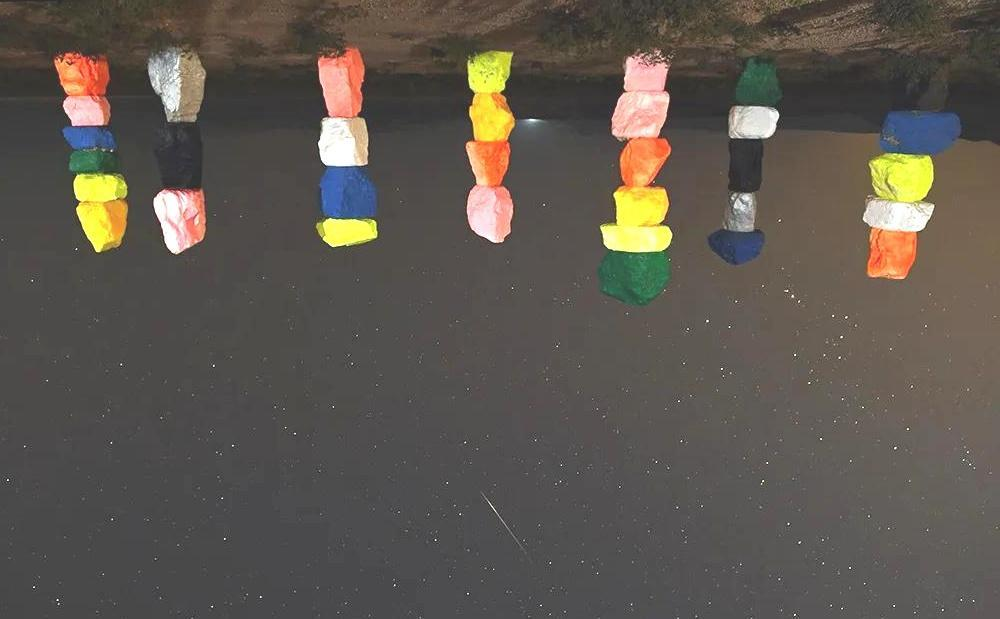meteorite: (458, 478, 543, 561)
